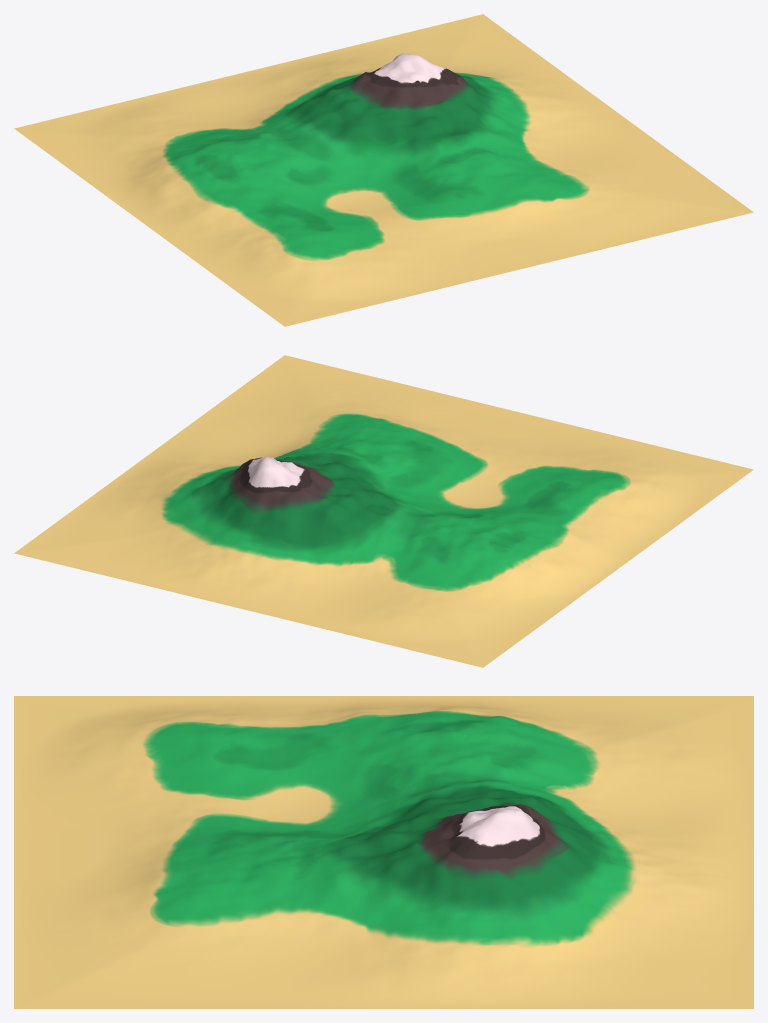
The model's file is island.gltf.
3 views of the same model, one above another, from view 1: azimuth 30°, elevation 25°; view 2: azimuth 150°, elevation 25°; view 3: azimuth 270°, elevation 25° (orthographic). The views are drawn at different scales.
Visible parts, largest first — view 1: Landscape.002; view 2: Landscape.002; view 3: Landscape.002.
Boxes of the visible parts, bbox=[...] form: Landscape.002: bbox=[14, 14, 753, 326]; Landscape.002: bbox=[14, 355, 753, 667]; Landscape.002: bbox=[14, 696, 753, 1008].
Size of the model in its own units: 127 by 16.88 by 127.
1 material, 1 textured.
